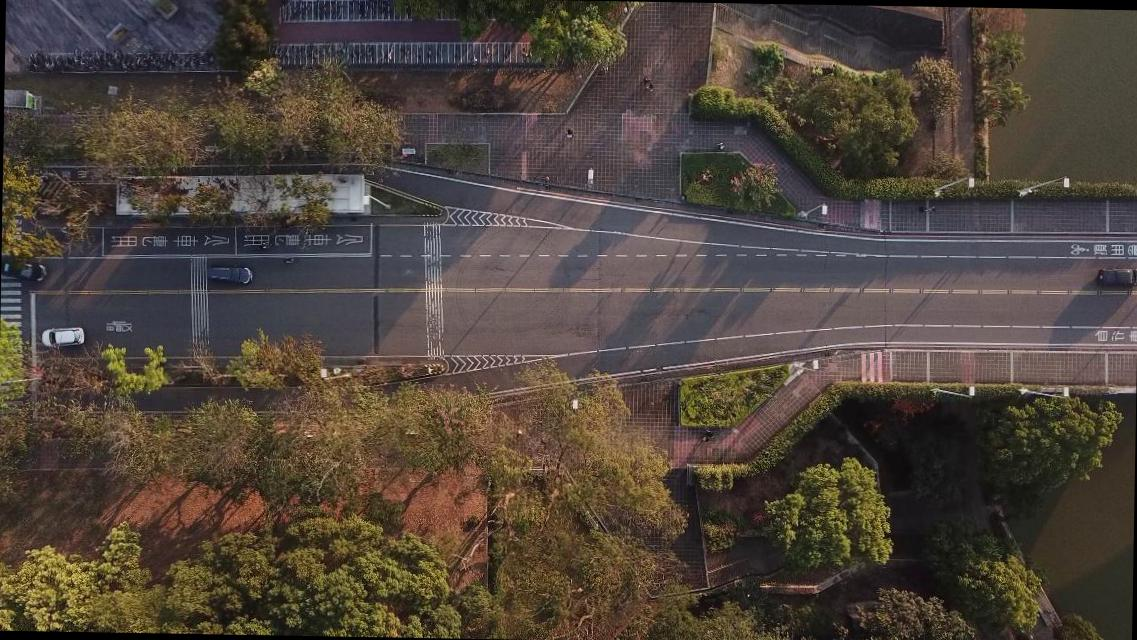vehicle: (2, 259, 48, 282), (40, 326, 84, 348), (1098, 266, 1136, 288), (206, 266, 252, 284)
